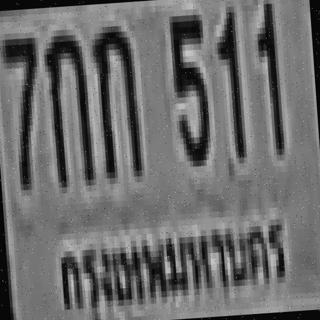A01: (88, 22, 139, 176), (42, 26, 91, 185)
N01: (212, 0, 244, 158), (252, 0, 282, 150)
N05: (166, 9, 209, 162)
N07: (0, 32, 42, 185)
P04: (51, 205, 296, 320)
